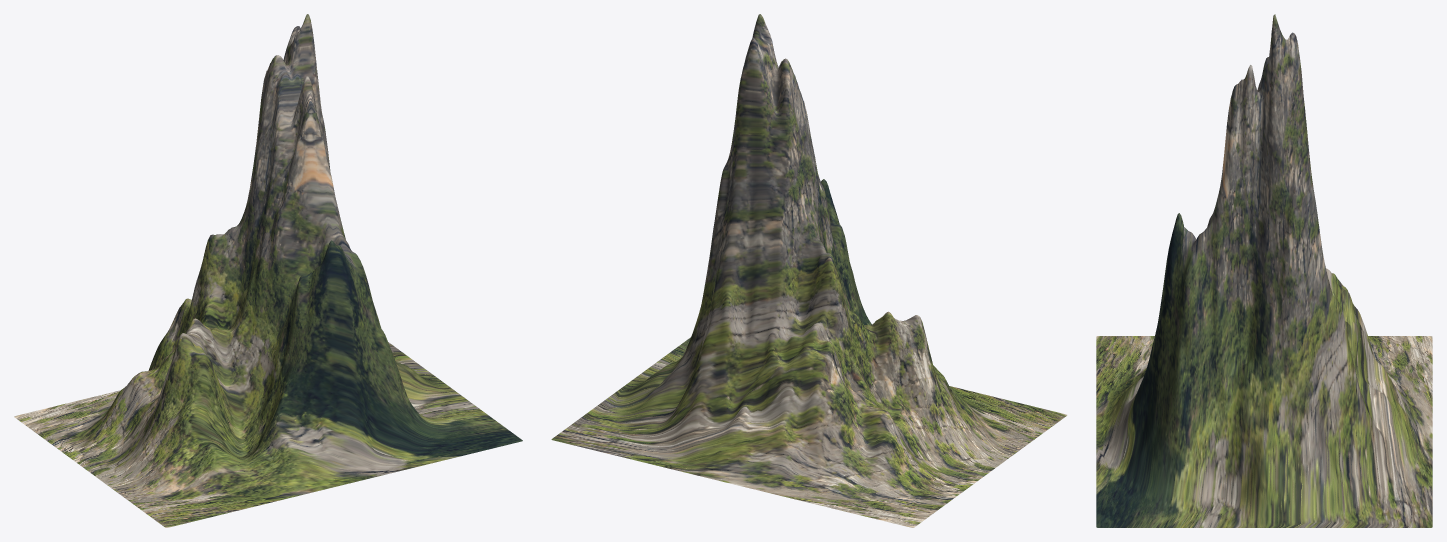
Rendered from Mountain_Range.dae.
The picture shows the model from 3 angles, left to right: view 1: azimuth 30°, elevation 25°; view 2: azimuth 150°, elevation 25°; view 3: azimuth 270°, elevation 25°; orthographic projection. The views are drawn at different scales.
Parts seen in each view (by area): view 1: Landscape; view 2: Landscape; view 3: Landscape.
Boxes of the visible parts, x1=… form: Landscape: x1=14, y1=14, x2=522, y2=527; Landscape: x1=551, y1=14, x2=1067, y2=527; Landscape: x1=1096, y1=14, x2=1432, y2=527.
Size of the model in its own units: 461 by 341 by 493.
Materials: 1 (1 with a texture image).
